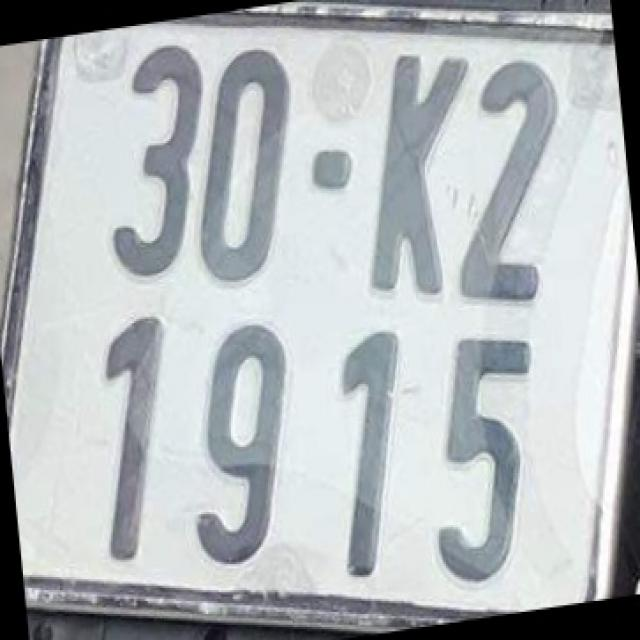0: (198, 39, 294, 286)
1: (88, 306, 173, 566), (328, 321, 409, 582)
2: (460, 48, 561, 306)
3: (106, 35, 199, 280)
5: (432, 325, 536, 588)
9: (187, 312, 294, 570)
K: (365, 39, 462, 302)
